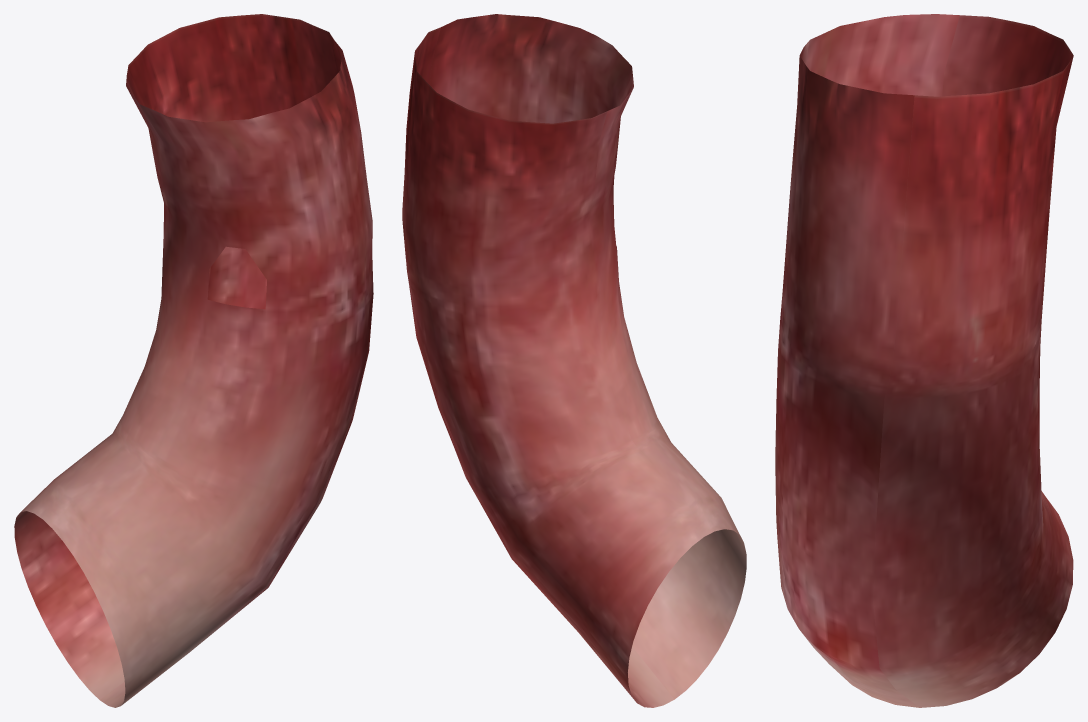
The model's file is Duodeno_low.FBX.
3 renders of one model, left to right at view 1: azimuth 30°, elevation 25°; view 2: azimuth 150°, elevation 25°; view 3: azimuth 270°, elevation 25°, orthographic. The views are drawn at different scales.
Parts seen in each view (by area): view 1: Gastrointestinal_Trac_2_pivot; view 2: Gastrointestinal_Trac_2_pivot; view 3: Gastrointestinal_Trac_2_pivot.
Boxes of the visible parts, x1,y1,x2,y2 form: Gastrointestinal_Trac_2_pivot: (14,14,373,707); Gastrointestinal_Trac_2_pivot: (402,14,746,707); Gastrointestinal_Trac_2_pivot: (775,14,1073,707).
Size of the model in its own units: 4.96 by 9.55 by 3.42.
Materials: 1 (1 with a texture image).
